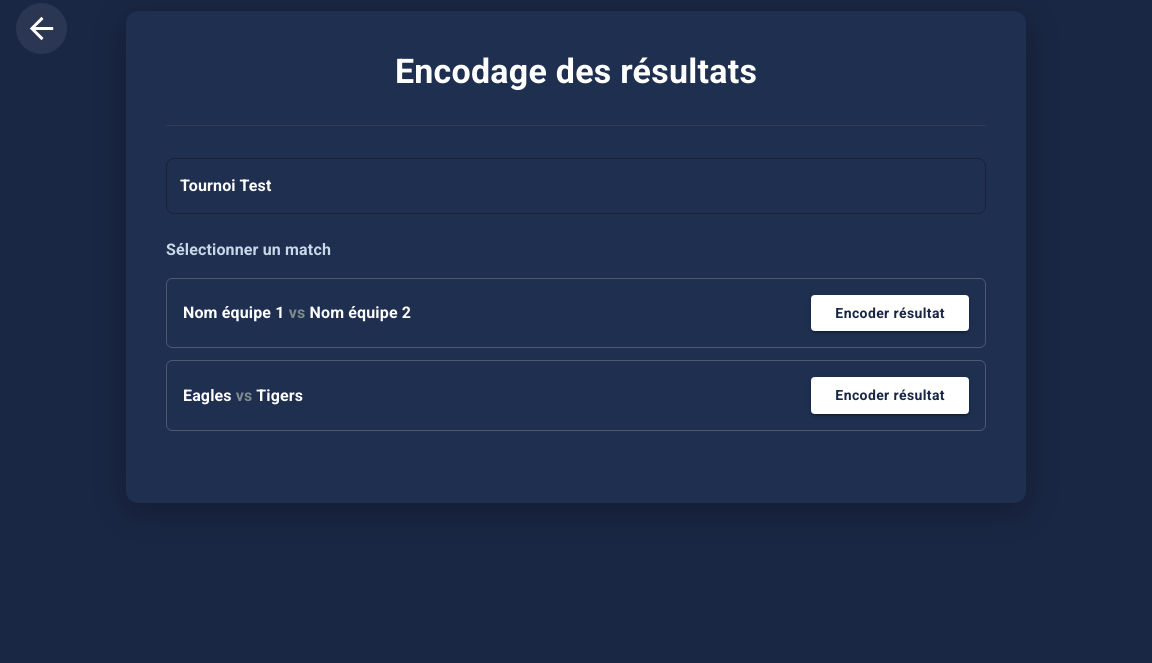
Test case: ResultEncodingPage › affiche une erreur si encodeResult échoue
Click the button "Encoder résultat" in the row of "Nom équipe 2" at x=890, y=313, box left=811, top=295, right=969, bottom=332
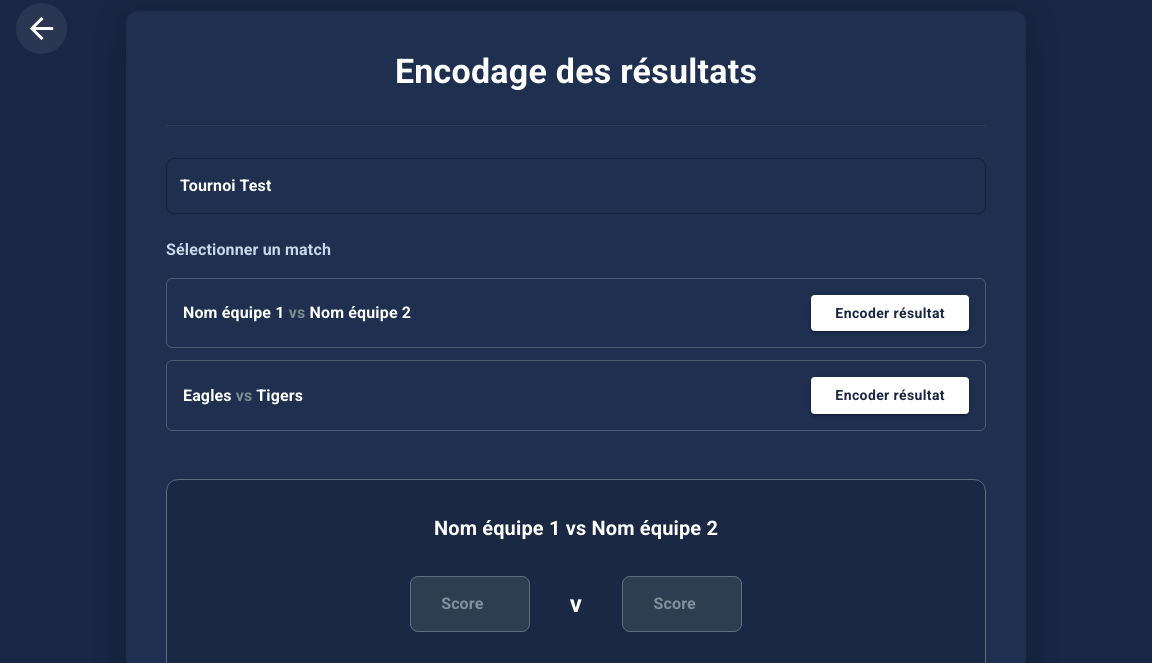
Type "3" into the 1st number field with placeholder "Score" at x=470, y=604, box left=410, top=576, right=530, bottom=632
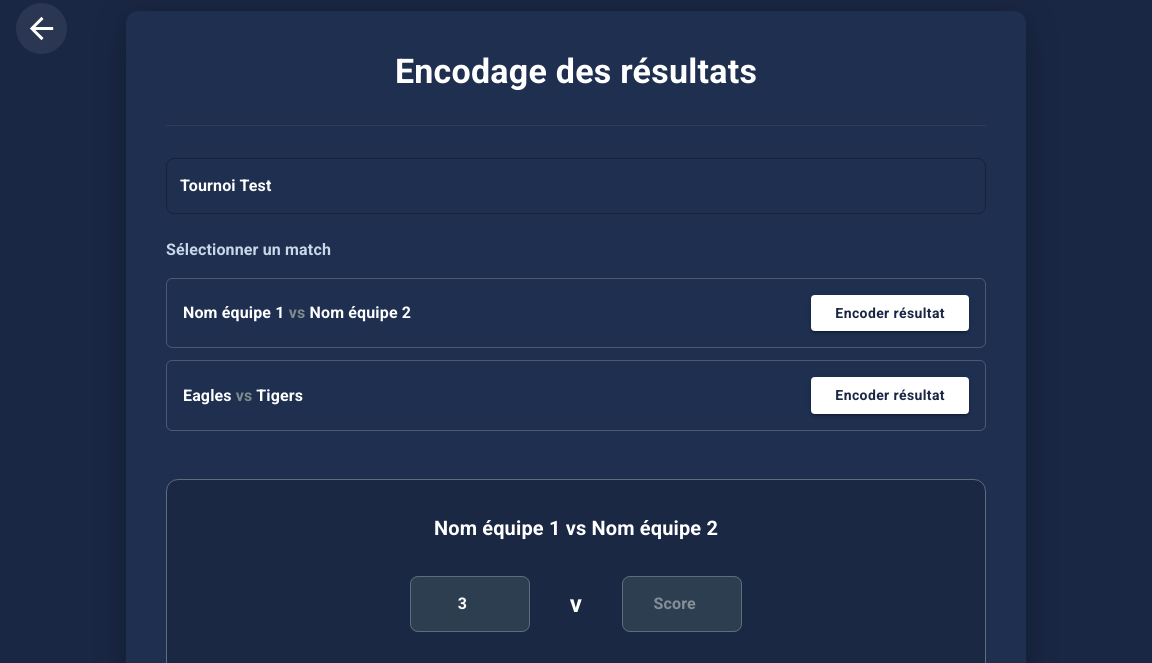
Type "1" into the number field with placeholder "Score" at x=682, y=604, box left=622, top=576, right=742, bottom=632
(page scrolled)
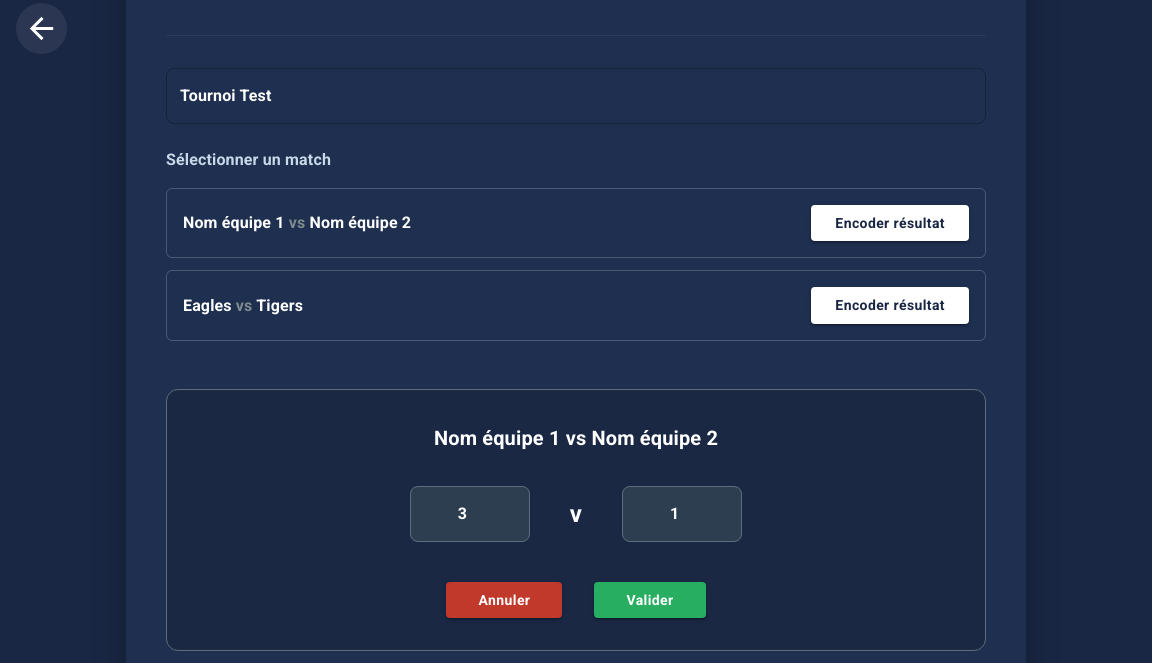
Click the button "Valider" at x=650, y=600, box left=594, top=582, right=706, bottom=618
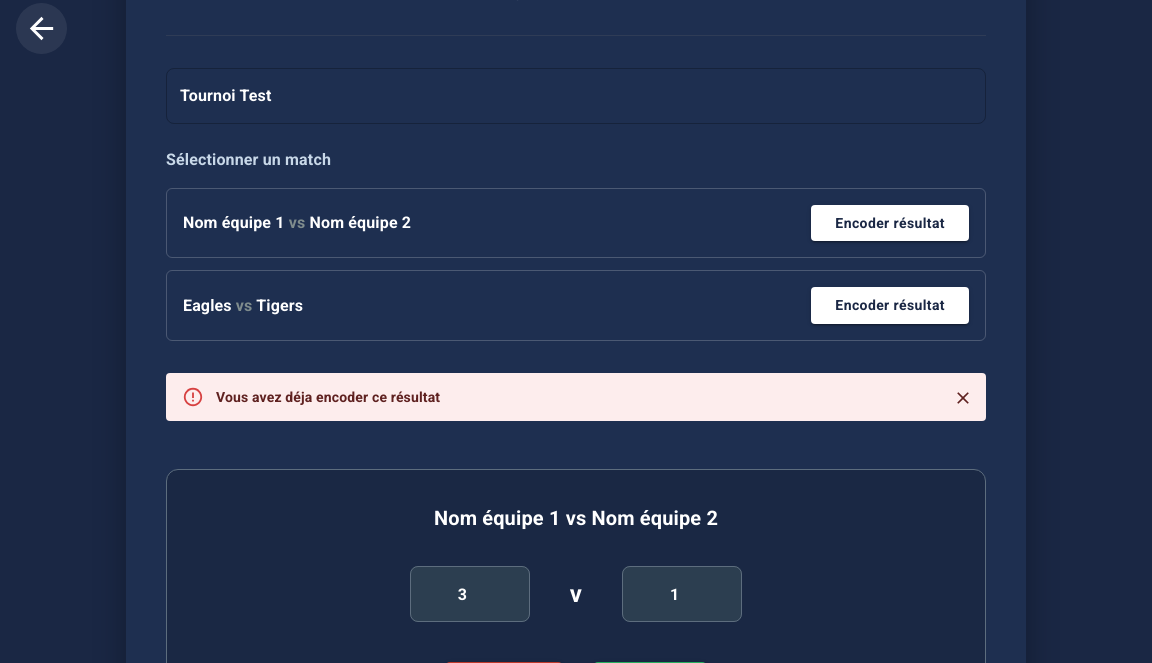
Now the text "Vous avez déja encoder ce résultat" is shown, box left=216, top=389, right=440, bottom=405
